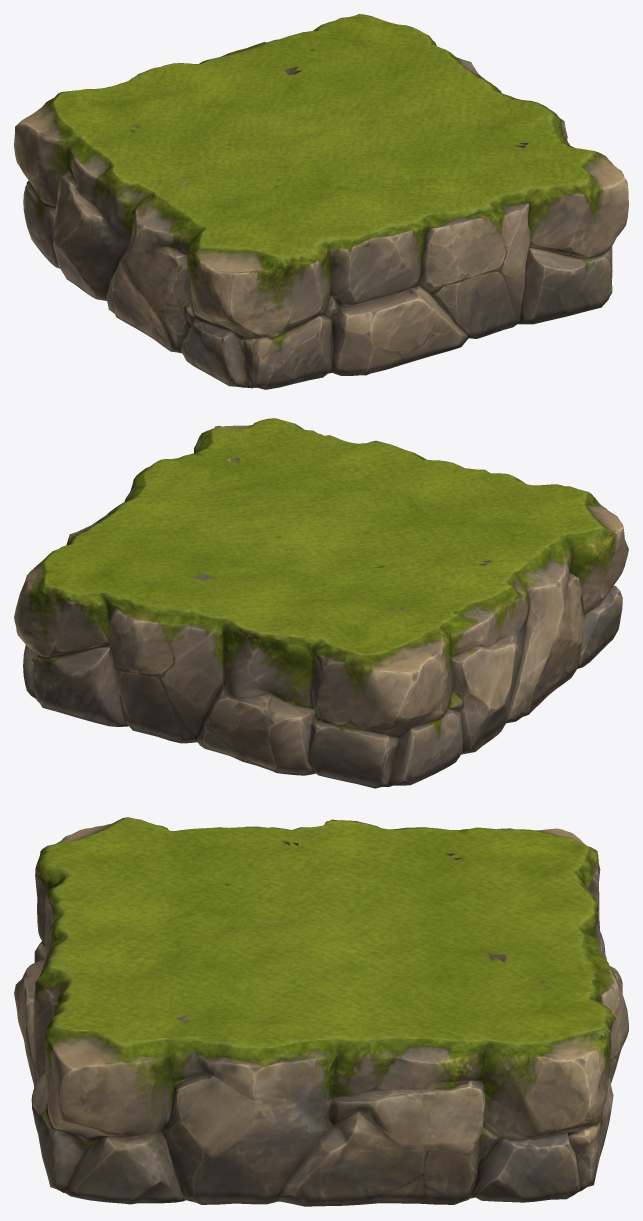
Rendered from Meshy_AI_Floating_Meadow_Platf_1025124801_texture.glb.
The picture shows the model from 3 angles, top to bottom: view 1: azimuth 30°, elevation 25°; view 2: azimuth 150°, elevation 25°; view 3: azimuth 270°, elevation 25°; orthographic projection. The views are drawn at different scales.
Bounding box in the file's own units: 3.49 × 1 × 3.52.
1 material, 1 textured.
